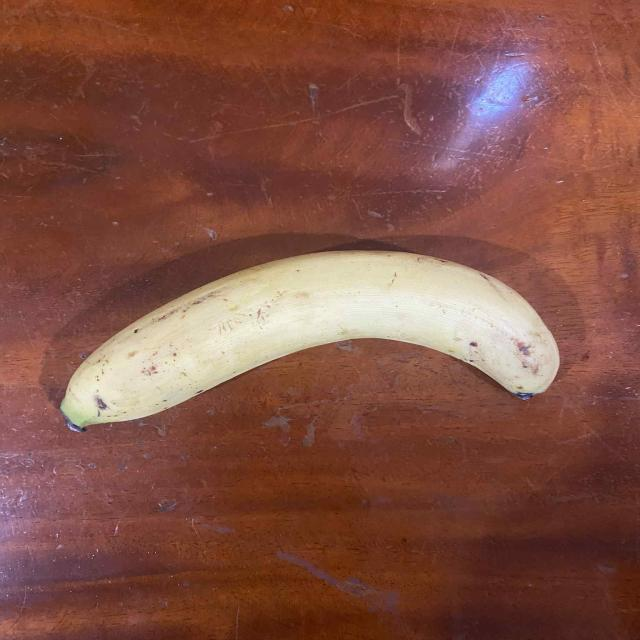Ripe: (41, 222, 599, 450)
